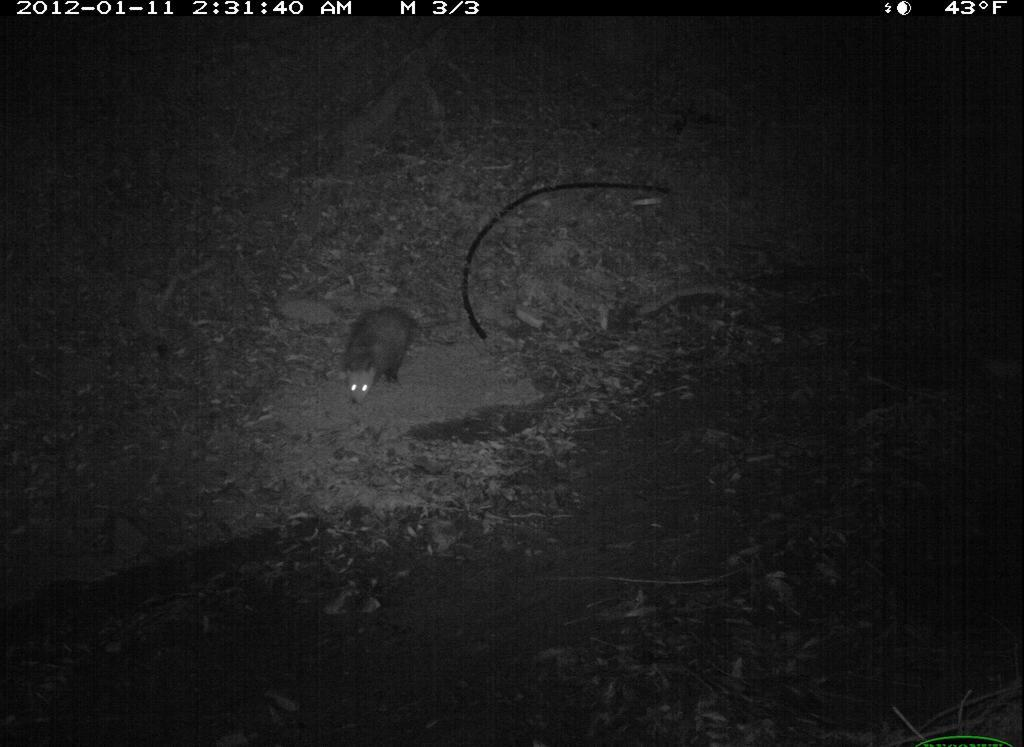opossum: (337, 296, 449, 402)
